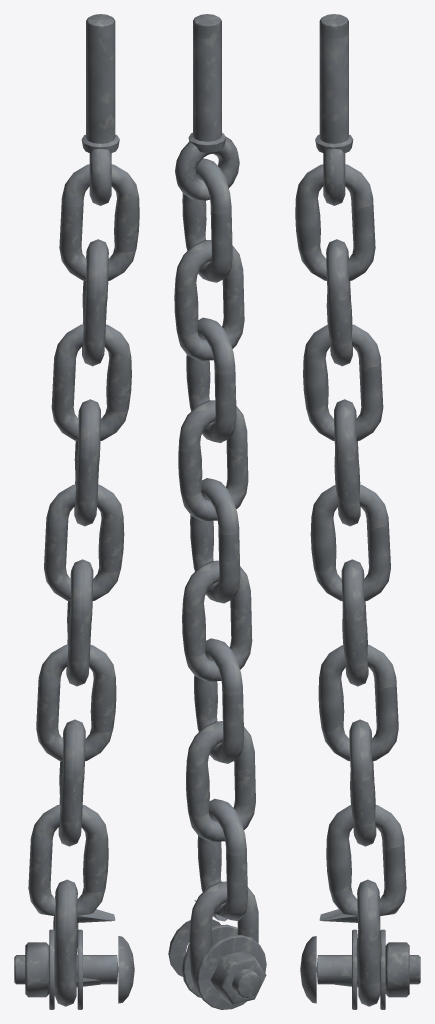
The model's file is chain.glb.
3 renders of one model, left to right at view 1: azimuth 90°, elevation 25°; view 2: azimuth 210°, elevation 25°; view 3: azimuth 270°, elevation 25°, orthographic.
Visible parts, largest first — view 1: chain; view 2: chain; view 3: chain.
Part boxes in pixels (x1,y1,x2,y2): chain: [14, 14, 139, 1009]; chain: [168, 14, 266, 1009]; chain: [295, 14, 420, 1009].
Bounding box in the file's own units: 0.022 × 0.296 × 0.0341.
1 material, 1 textured.
